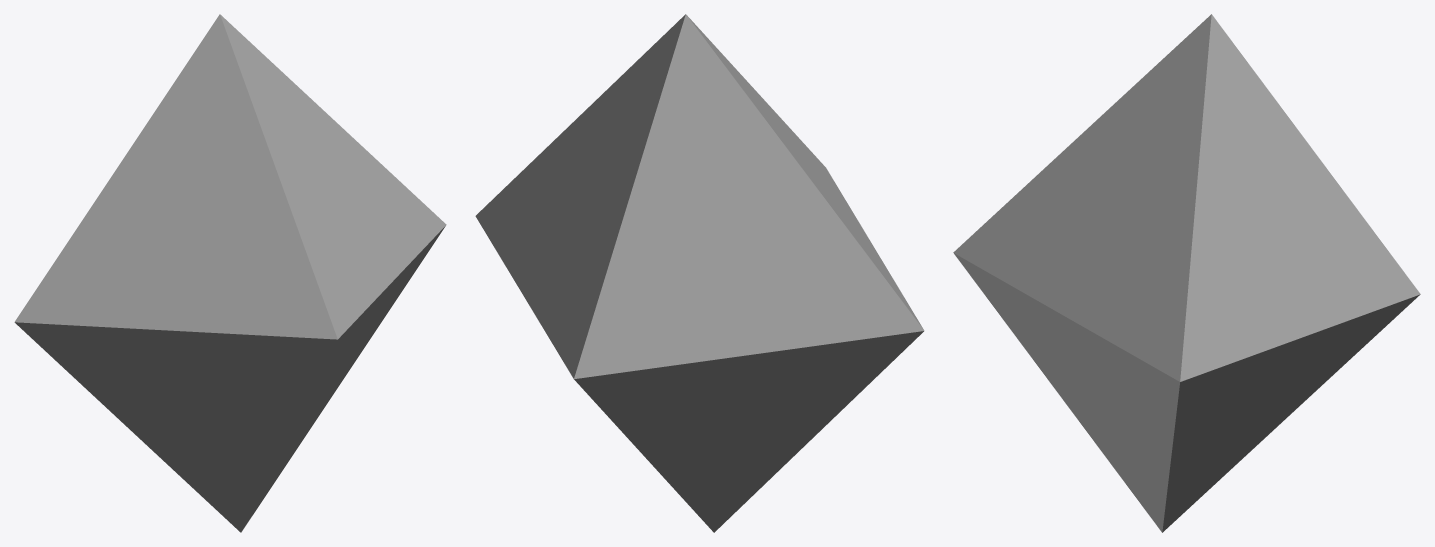
Rendered from SM_Chr_Attach_Piercings_Female_01.fbx.
3 renders of one model, left to right at view 1: azimuth 30°, elevation 25°; view 2: azimuth 150°, elevation 25°; view 3: azimuth 270°, elevation 25°, orthographic. The views are drawn at different scales.
Parts seen in each view (by area): view 1: SM_Chr_Attach_Piercings_Female_01; view 2: SM_Chr_Attach_Piercings_Female_01; view 3: SM_Chr_Attach_Piercings_Female_01.
Part boxes in pixels (x1,y1,x2,y2): SM_Chr_Attach_Piercings_Female_01: (14,14,446,532); SM_Chr_Attach_Piercings_Female_01: (475,14,924,532); SM_Chr_Attach_Piercings_Female_01: (953,14,1420,532).
Size of the model in its own units: 2.08 by 2.34 by 1.91.
